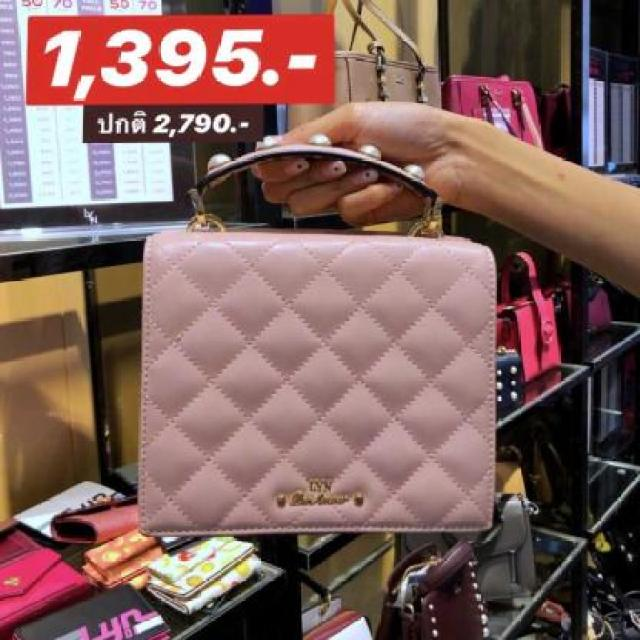Bag: (84, 110, 582, 564)
